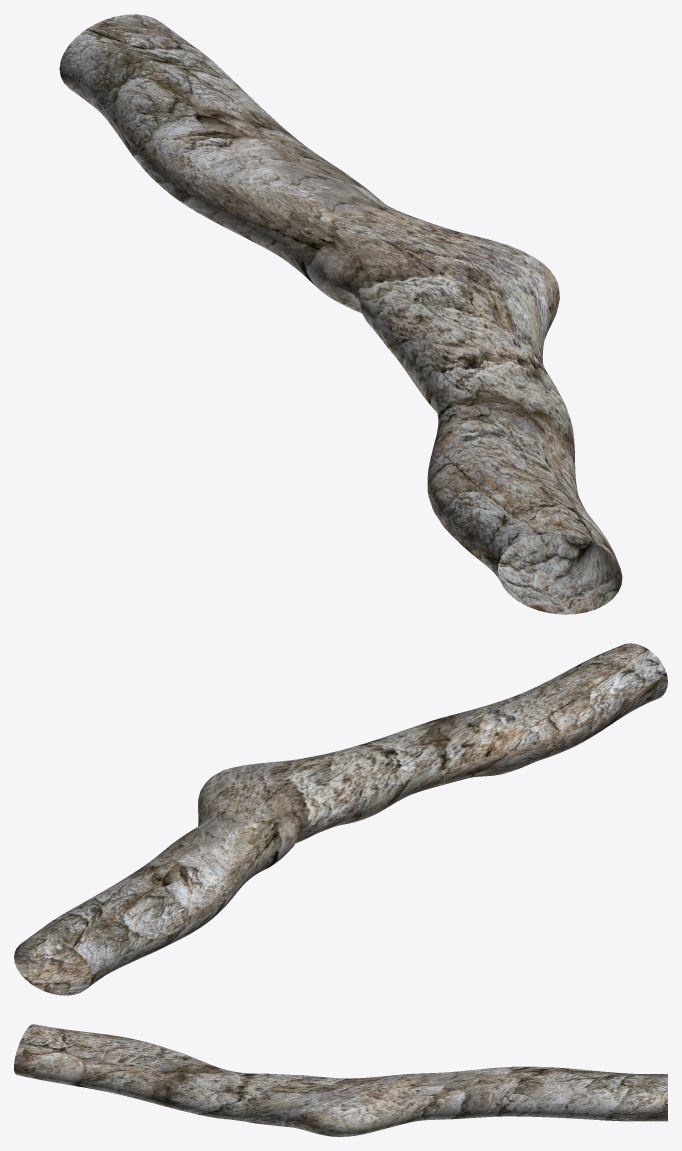
File: cave.obj
The picture shows the model from 3 angles, top to bottom: view 1: azimuth 30°, elevation 25°; view 2: azimuth 150°, elevation 25°; view 3: azimuth 270°, elevation 25°; orthographic projection. The views are drawn at different scales.
Parts seen in each view (by area): view 1: Cave_Cylinder; view 2: Cave_Cylinder; view 3: Cave_Cylinder.
Part boxes in pixels (x1,y1,x2,y2): Cave_Cylinder: [59, 14, 622, 614]; Cave_Cylinder: [14, 643, 667, 995]; Cave_Cylinder: [14, 1024, 667, 1136].
Size of the model in its own units: 9.56 by 2.72 by 30.53.
